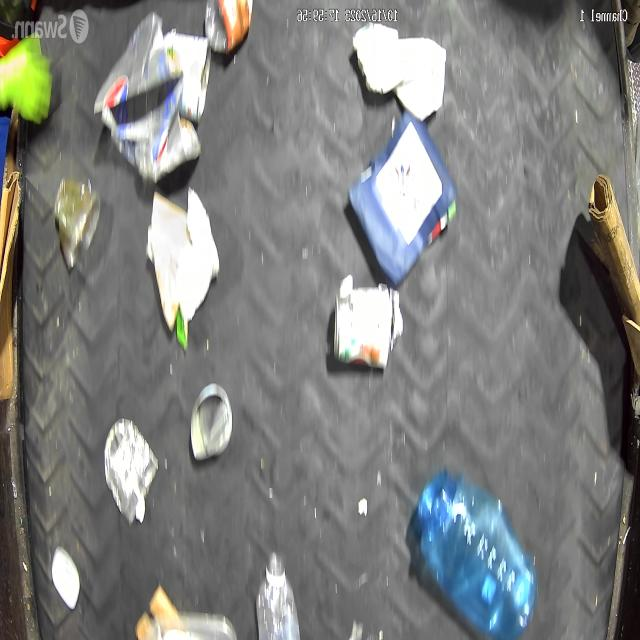can: (332, 274, 403, 372), (103, 418, 157, 522), (188, 384, 234, 461)
milk_jug: (351, 21, 447, 122)
plastic_bottle: (413, 467, 540, 640), (254, 551, 302, 640)
